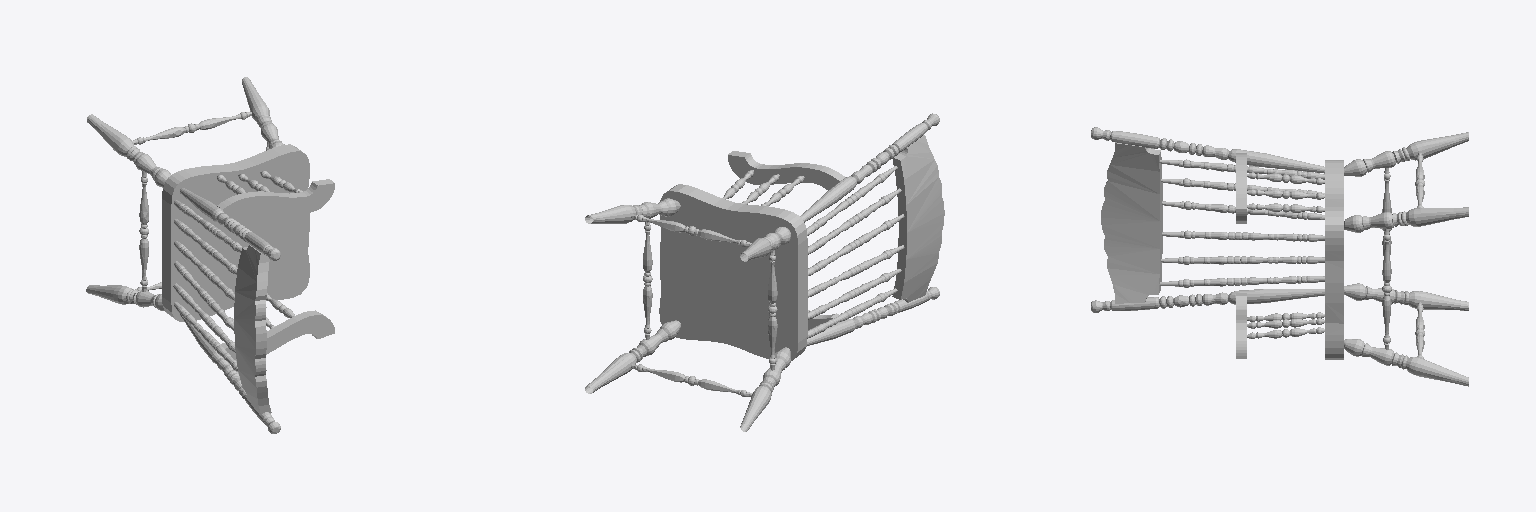
Rendered from chair.obj.
3 renders of one model, left to right at view 1: azimuth 30°, elevation 25°; view 2: azimuth 150°, elevation 25°; view 3: azimuth 270°, elevation 25°, orthographic.
Visible parts, largest first — view 1: chair, seat_pivot; view 2: chair; view 3: chair, headpiece_pivot.
Boxes of the visible parts, box(x1,y1,x2,y2) form: chair: box(86, 77, 334, 433); seat_pivot: box(171, 151, 309, 321); chair: box(585, 113, 944, 431); chair: box(1091, 127, 1468, 386); headpiece_pivot: box(1101, 143, 1160, 303).
Size of the model in its own units: 2605 by 2605 by 4837.